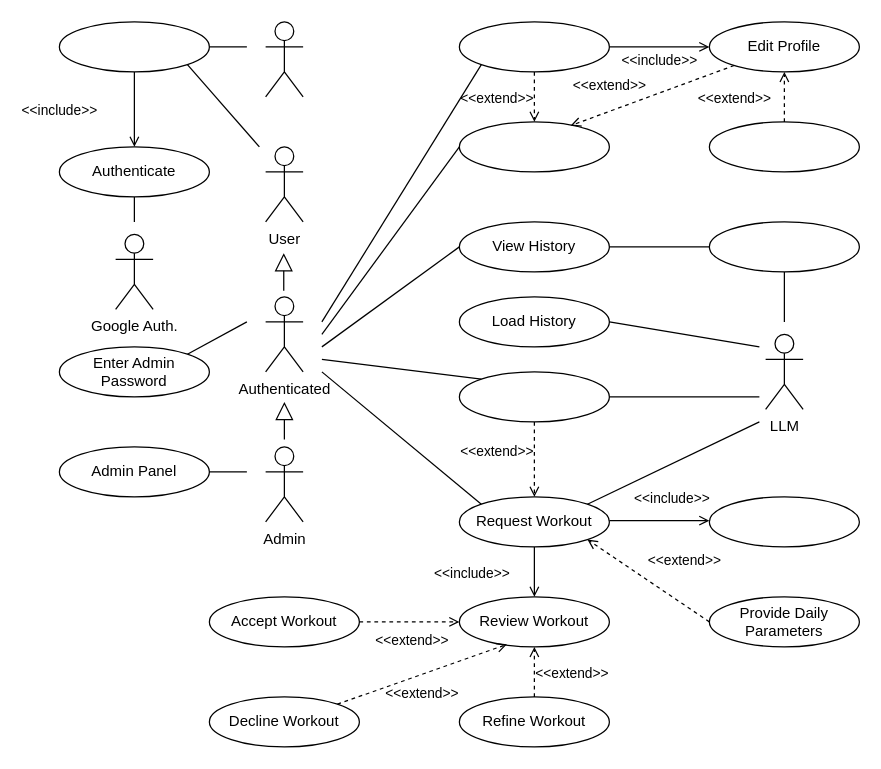
Some shapes in this 881 by 769 pixel diagram are drawn without their labels. The centre of each missing label's shape, as x and y in pixels:
App Server: point (283, 59)
Clear History: point (783, 246)
Create Profile: point (533, 46)
Delete Profile: point (783, 146)
Feedback on Previous Workout: point (533, 396)
Log In: point (133, 46)
Provide Profile Details: point (783, 521)
View Profile: point (533, 146)
